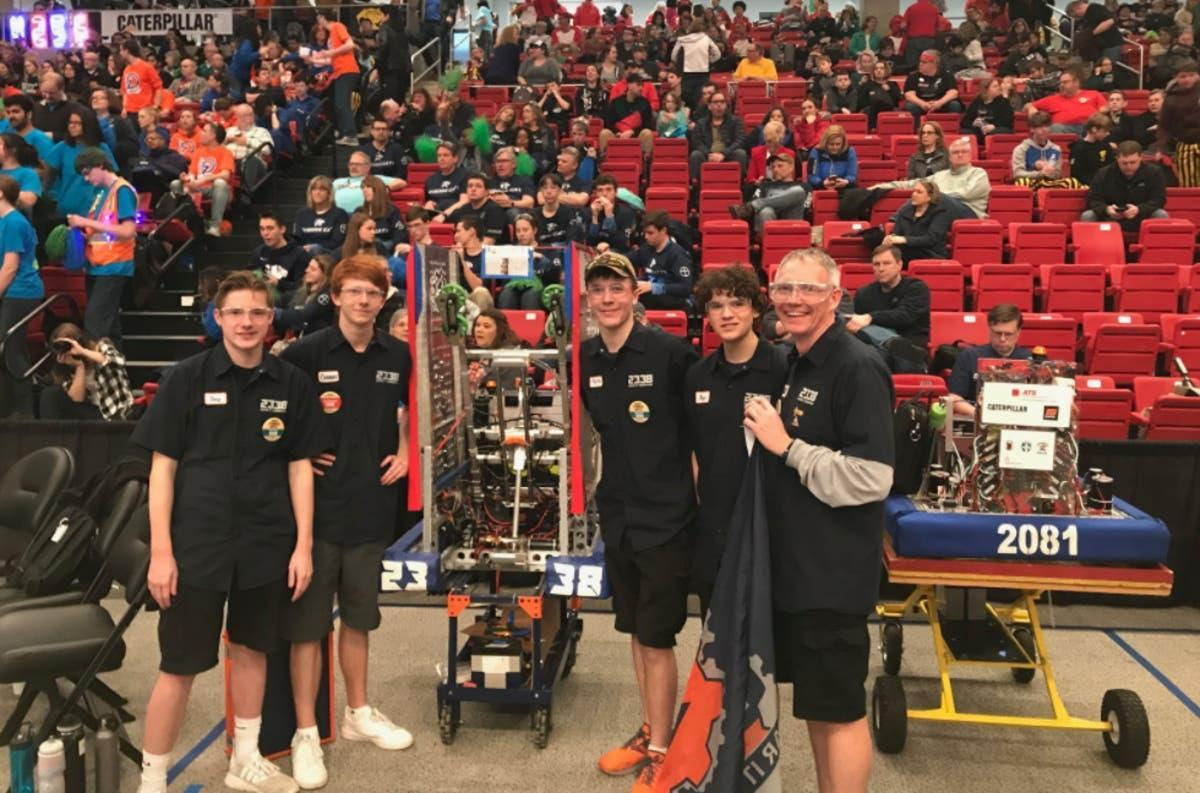robot: (374, 241, 630, 614), (876, 343, 1191, 577)
